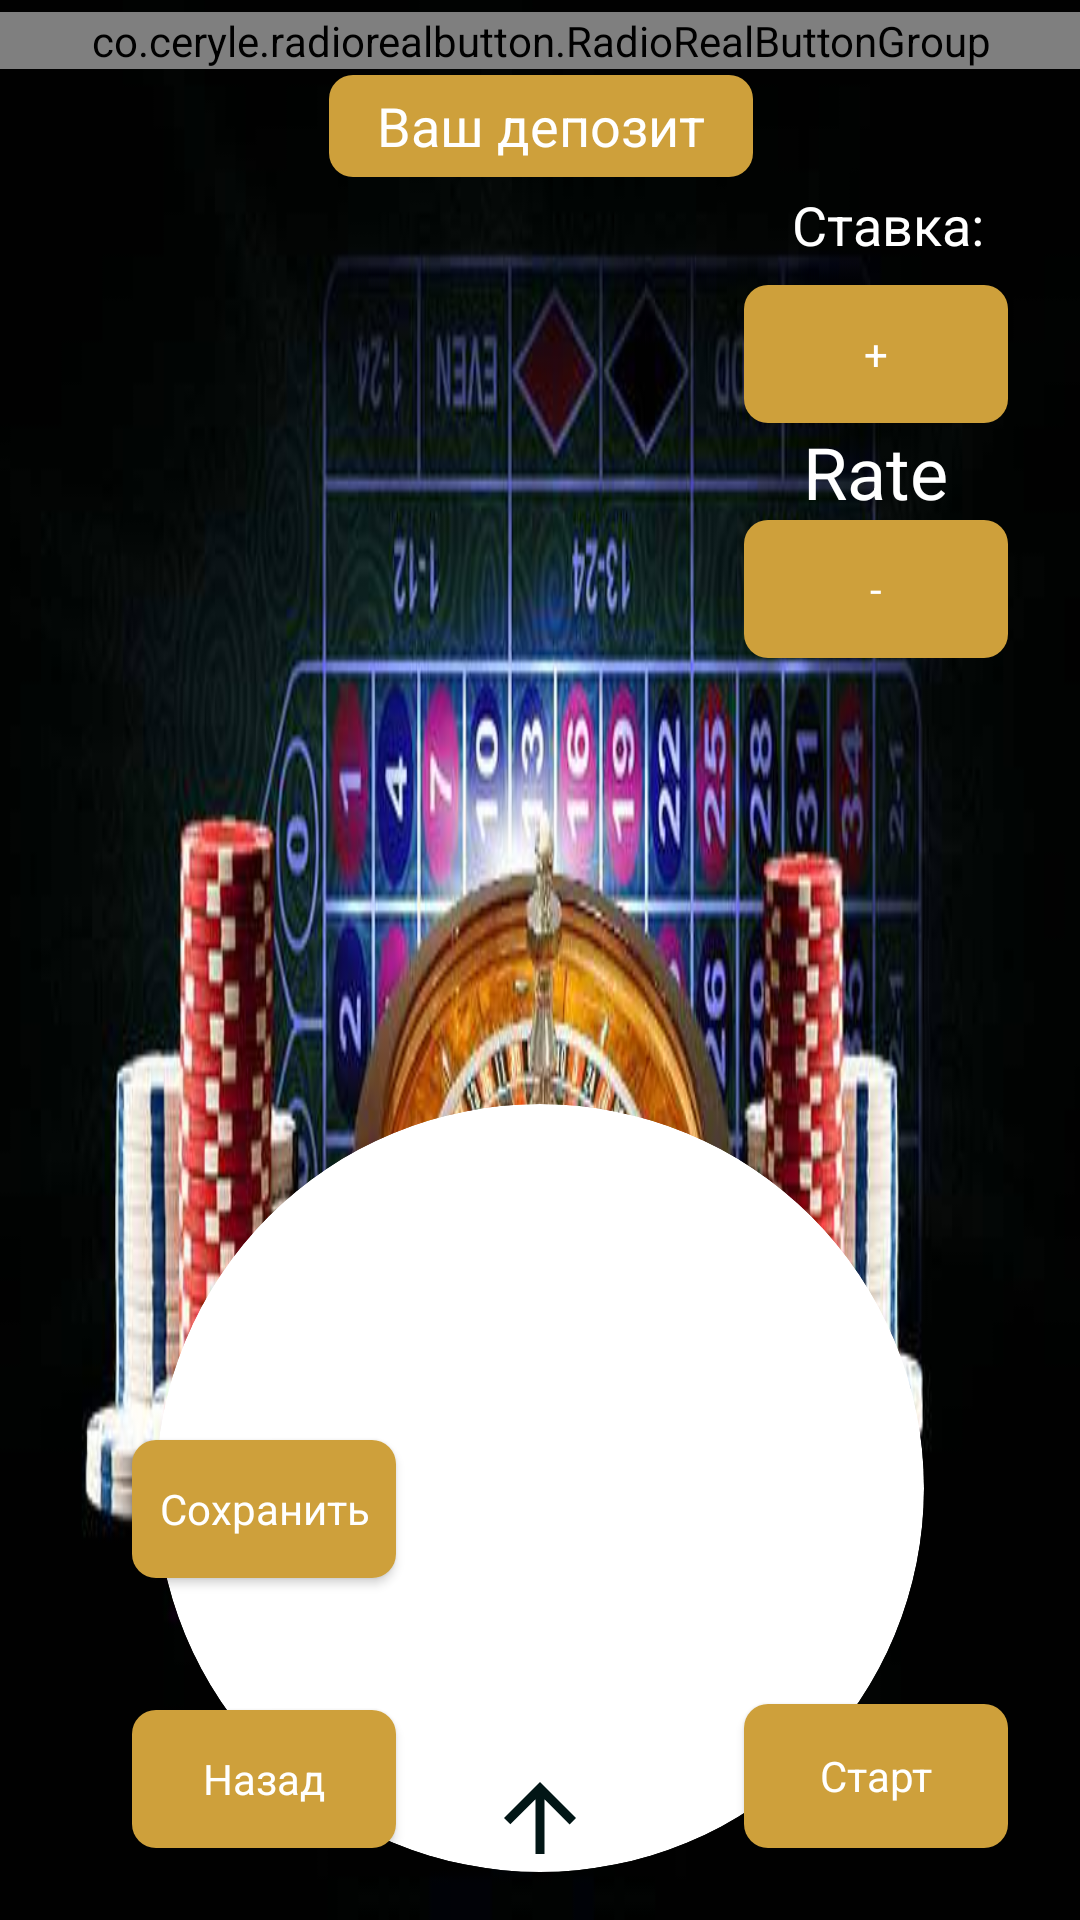

Screen size 1080 × 1920. Icon name, then its box in pixels as (x1, y1, x2, y2):
arrow upward: (504, 1782, 576, 1854)
